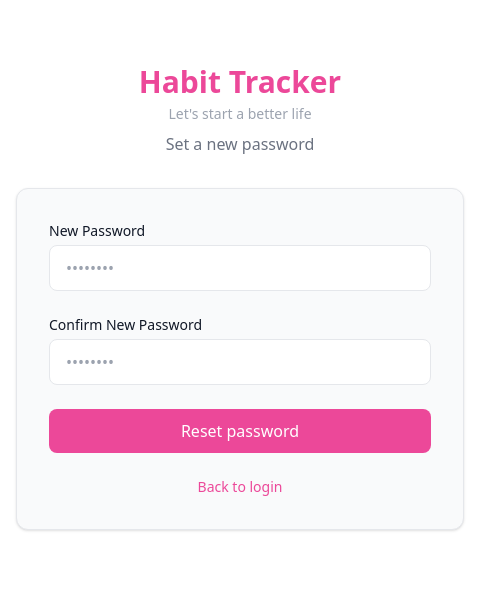
Scenario: ResetPasswordPage › shows client-side mismatch validation
This screenshot has width=481, height=602.
In the password field labelled "New Password": (240, 268) [49,245,431,291], type "StrongPass1"
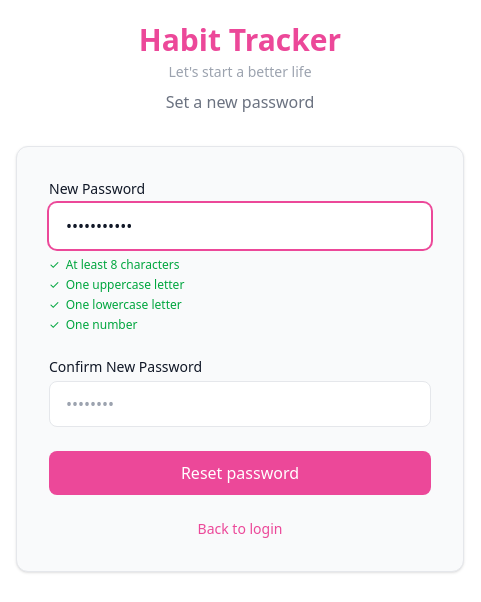
In the password field labelled "Confirm New Password": (240, 404) [49,381,431,427], type "Different1"
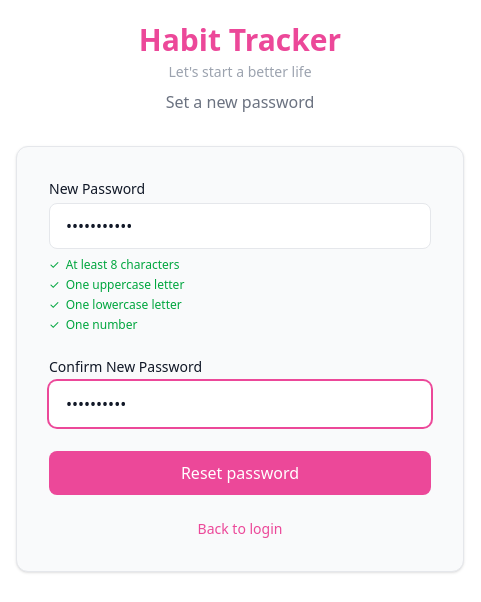
Click the button "Reset password": (240, 473) [49,451,431,495]
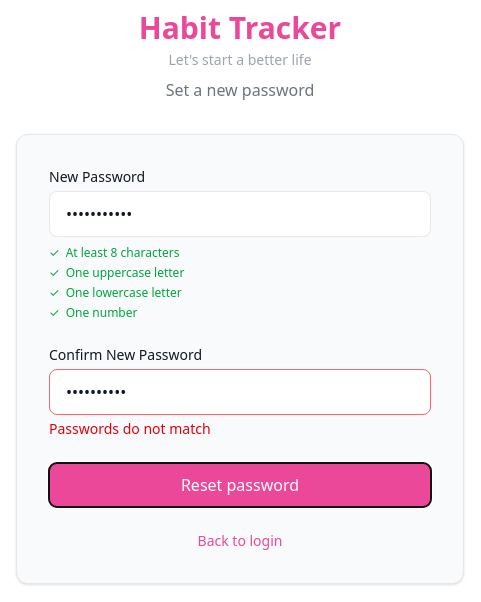
Expected: the text "Passwords do not match" is shown, [49,419,211,438]
